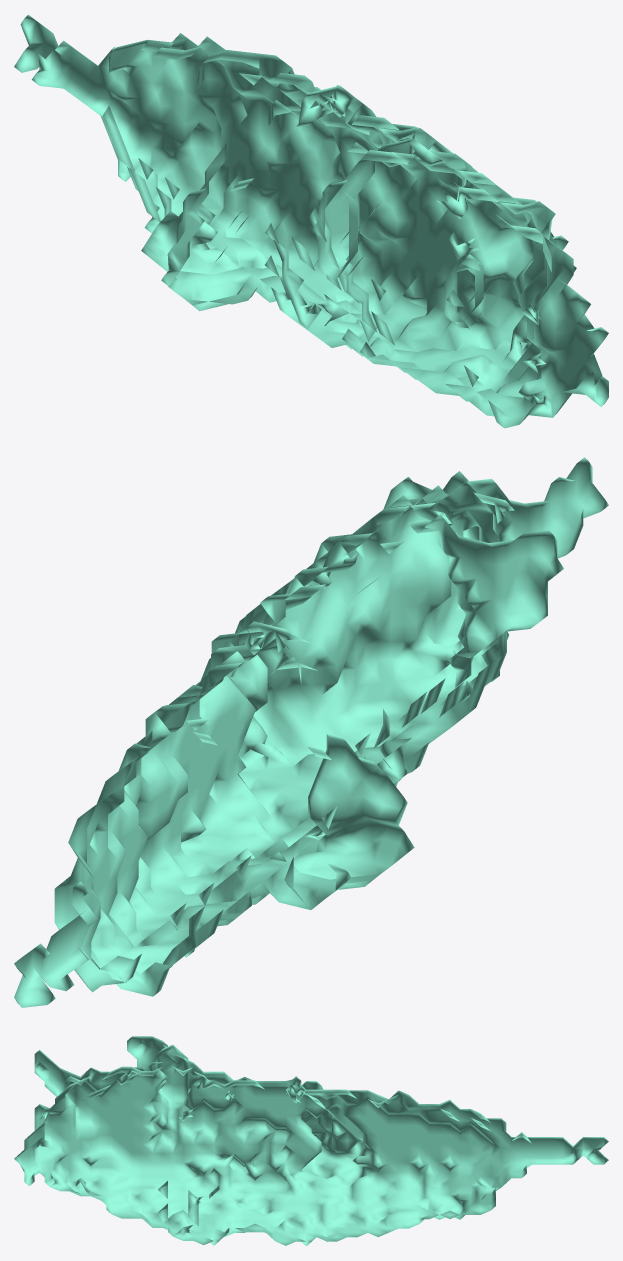
Rendered from osteocyte_62.glb.
3 renders of one model, top to bottom at view 1: azimuth 30°, elevation 25°; view 2: azimuth 150°, elevation 25°; view 3: azimuth 270°, elevation 25°, orthographic. The views are drawn at different scales.
Parts seen in each view (by area): view 1: osteocyte_62; view 2: osteocyte_62; view 3: osteocyte_62.
Part boxes in pixels (x1,y1,x2,y2): osteocyte_62: (14, 14, 608, 428); osteocyte_62: (14, 457, 608, 1007); osteocyte_62: (14, 1036, 608, 1246).
Bounding box in the file's own units: 9.63 × 8.67 × 27.93.
